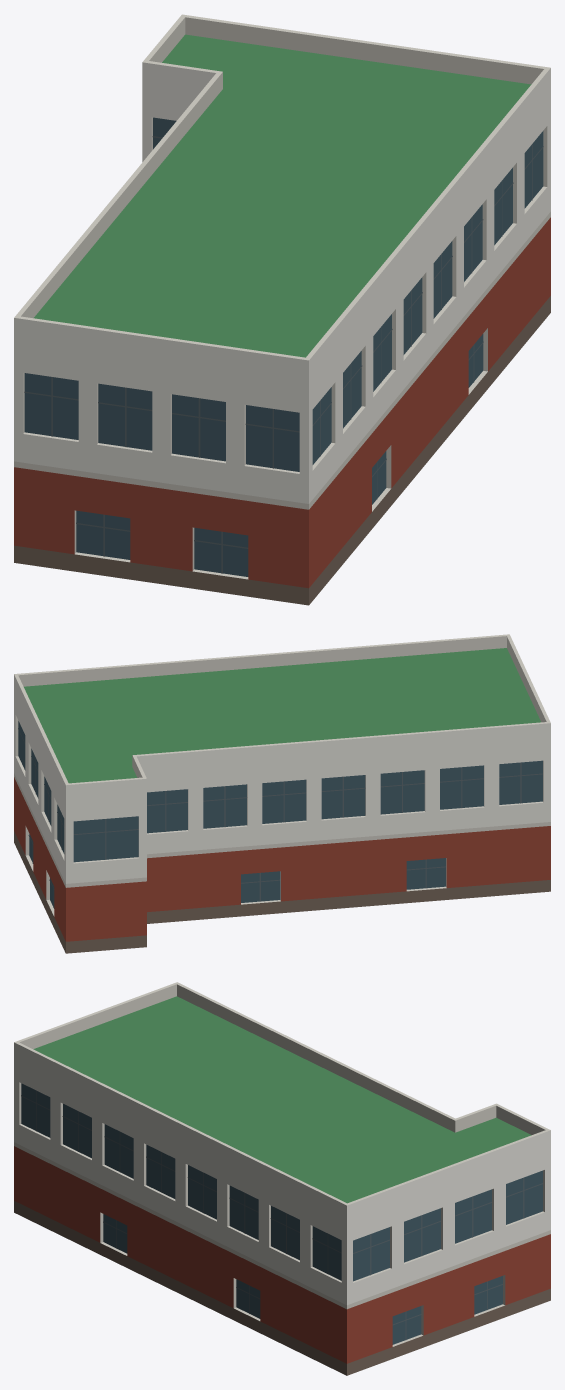
3 renders of one model, top to bottom at view 1: azimuth 30°, elevation 25°; view 2: azimuth 150°, elevation 25°; view 3: azimuth 270°, elevation 25°, orthographic. The views are drawn at different scales.
Visible parts, largest first — view 1: hall2__roof, hall2__wall-plaster, hall2__brick, hall2__glass, hall2__trim-concrete, hall2__base-stone, hall2__frame; view 2: hall2__roof, hall2__wall-plaster, hall2__brick, hall2__glass, hall2__trim-concrete, hall2__base-stone, hall2__frame; view 3: hall2__roof, hall2__wall-plaster, hall2__brick, hall2__glass, hall2__trim-concrete, hall2__base-stone, hall2__frame.
Boxes of the visible parts, x1,y1,x2,y2 form: hall2__roof: (34,34,531,357); hall2__wall-plaster: (14,62,550,503); hall2__brick: (14,217,550,588); hall2__glass: (24,117,543,576); hall2__trim-concrete: (14,14,550,579); hall2__base-stone: (14,296,550,605); hall2__frame: (24,136,543,573); hall2__roof: (24,648,540,783); hall2__wall-plaster: (14,674,550,883); hall2__brick: (14,777,550,941); hall2__glass: (18,721,542,908); hall2__trim-concrete: (14,634,550,916); hall2__base-stone: (14,831,550,953); hall2__frame: (18,728,542,907); hall2__roof: (33,996,531,1203); hall2__wall-plaster: (14,1042,550,1305); hall2__brick: (14,1146,550,1363); hall2__glass: (21,1083,542,1344); hall2__trim-concrete: (14,982,550,1346); hall2__base-stone: (14,1201,550,1375); hall2__frame: (21,1090,543,1339).
Size of the model in its own units: 36.03 by 12.8 by 36.58.
